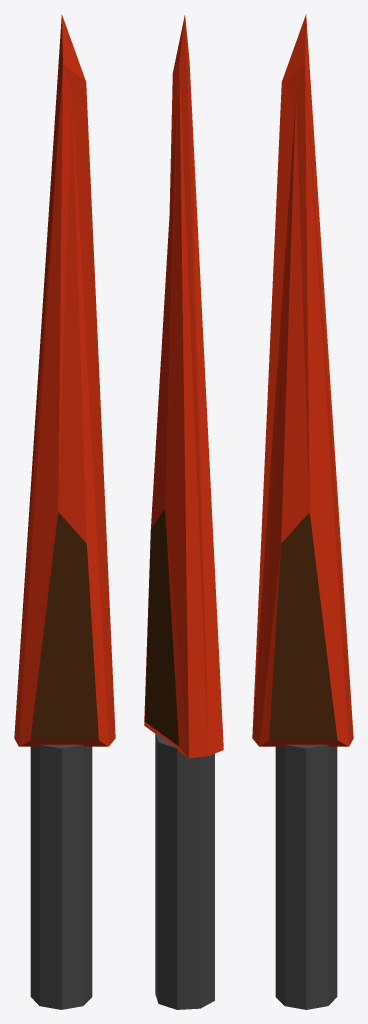
Rendered from Laevateinn.obj.
3 views of the same model, side by side, from view 1: azimuth 90°, elevation 25°; view 2: azimuth 210°, elevation 25°; view 3: azimuth 270°, elevation 25° (orthographic).
Parts seen in each view (by area): view 1: Cube; view 2: Cube; view 3: Cube.
Part boxes in pixels (x1,y1,x2,y2): Cube: (14,14,115,1009); Cube: (144,15,223,1009); Cube: (252,14,353,1009).
Size of the model in its own units: 0.6917 by 12.17 by 1.14.
